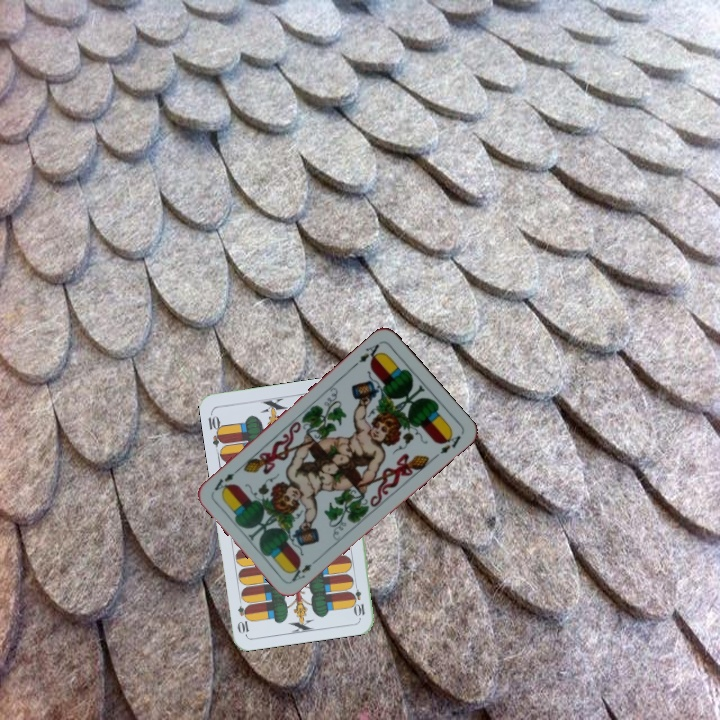E10: (204, 408, 227, 449), (349, 578, 367, 619)
EA: (350, 338, 385, 369), (287, 554, 321, 585)
